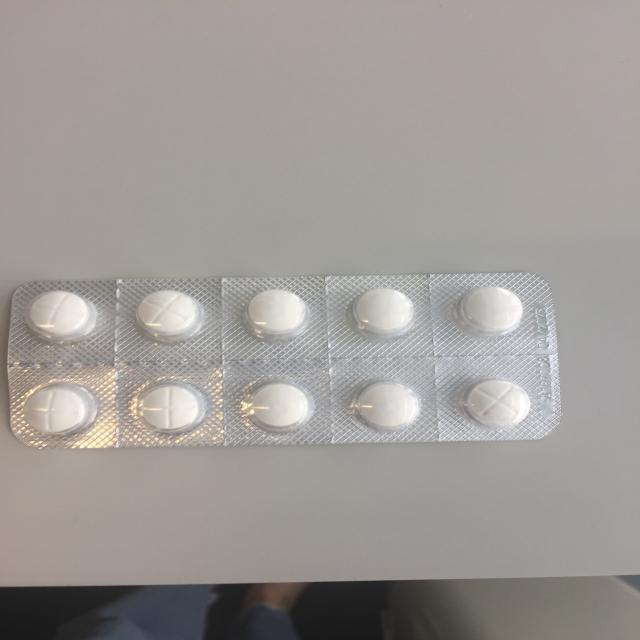Pill: (128, 286, 211, 347), (130, 376, 210, 436), (20, 378, 98, 438), (341, 282, 422, 338), (448, 280, 524, 338), (346, 378, 424, 432), (458, 376, 534, 430), (239, 382, 319, 432), (18, 287, 96, 338), (236, 288, 316, 336)
